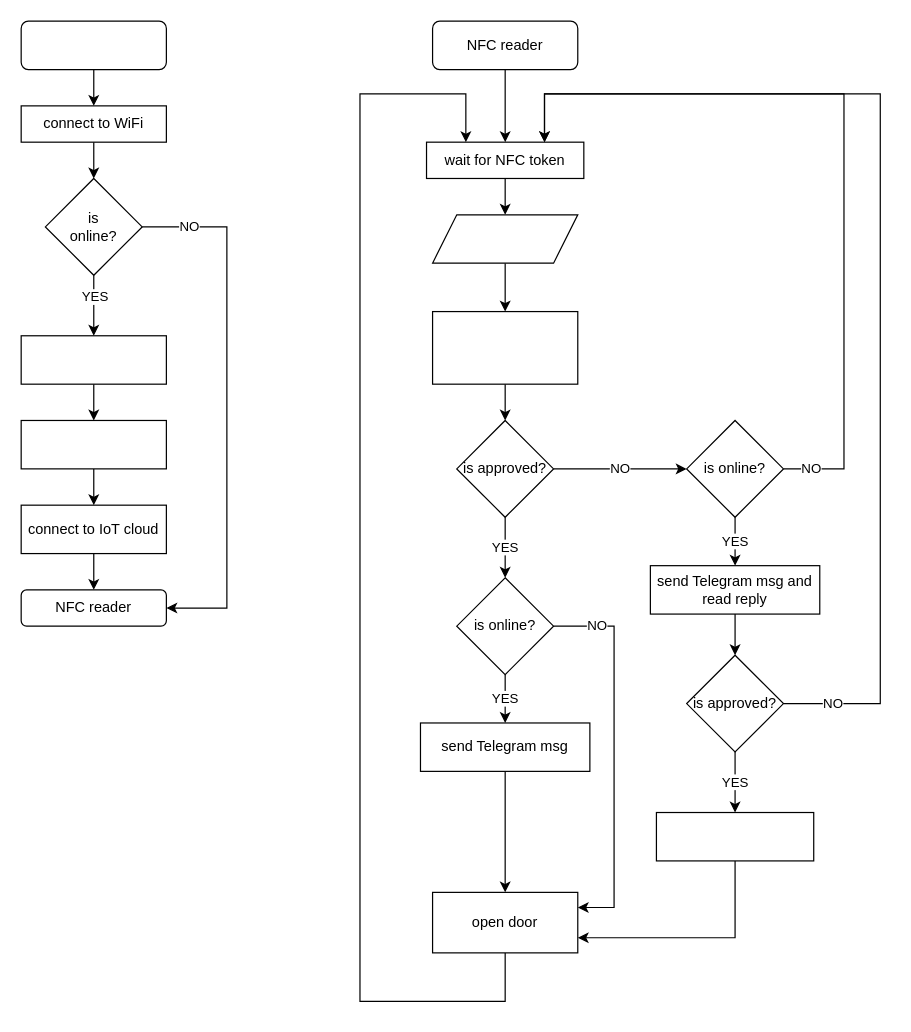
Image size: 911x1032. Some labels were removed from this diagram. Each missing label, with the centre of its shape:
"add to approved list and to online DB" goes at [734,836].
"check if in list of approved tokens" goes at [504,347].
"connect to Telegram" goes at [93,444].
"download list of tokens" goes at [93,359].
"new token" goes at [504,238].
"setup" goes at [93,45].
